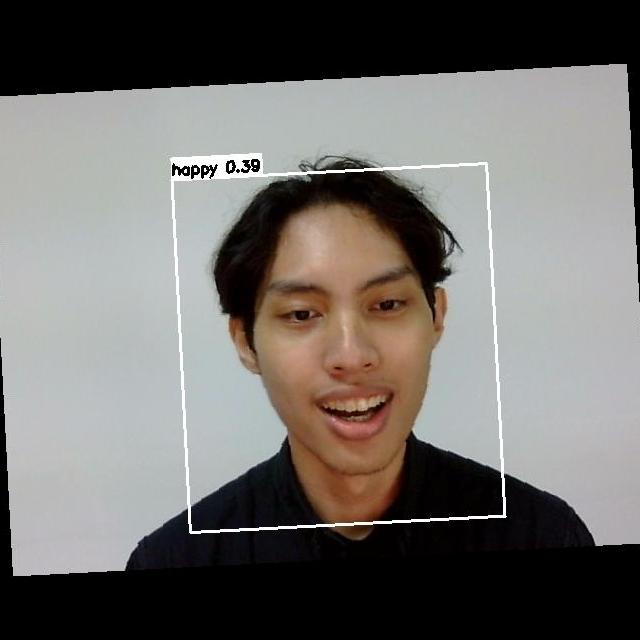Surprised: (233, 255, 457, 450)
